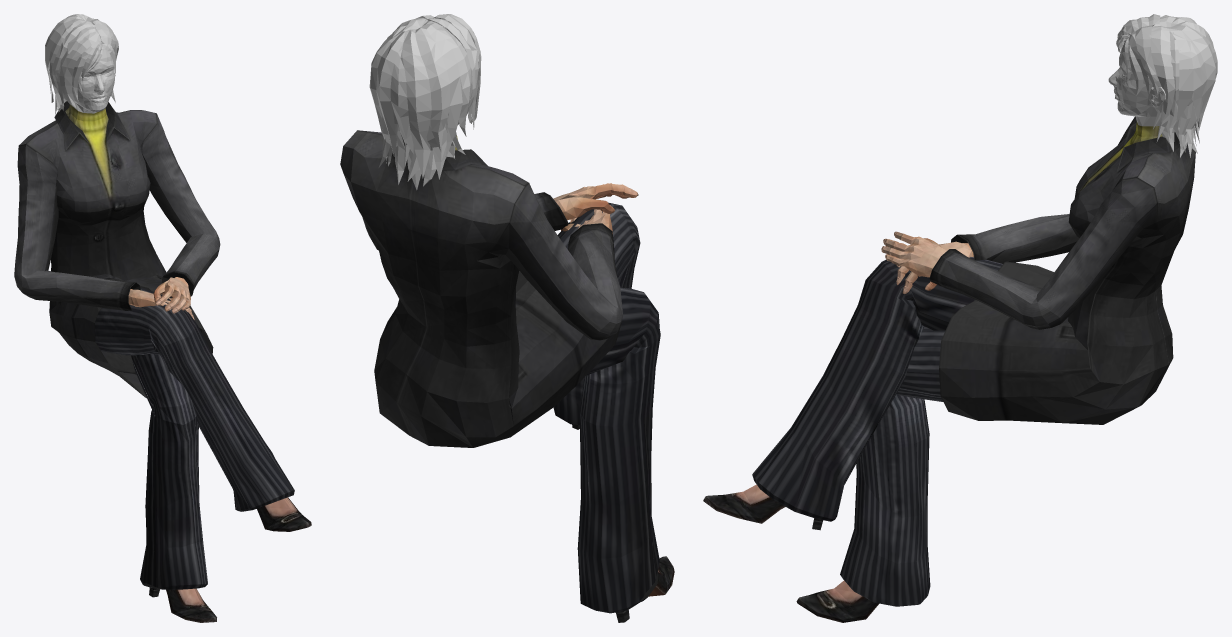
File: sitFemale03.obj
The picture shows the model from 3 angles, left to right: view 1: azimuth 30°, elevation 25°; view 2: azimuth 150°, elevation 25°; view 3: azimuth 270°, elevation 25°; orthographic projection. The views are drawn at different scales.
Visible parts, largest first — view 1: Object01; view 2: Object01; view 3: Object01.
Boxes of the visible parts, x1,y1,x2,y2 form: Object01: [14, 14, 311, 622]; Object01: [340, 14, 674, 622]; Object01: [703, 14, 1217, 622].
Size of the model in its own units: 49.44 by 127 by 97.18.
